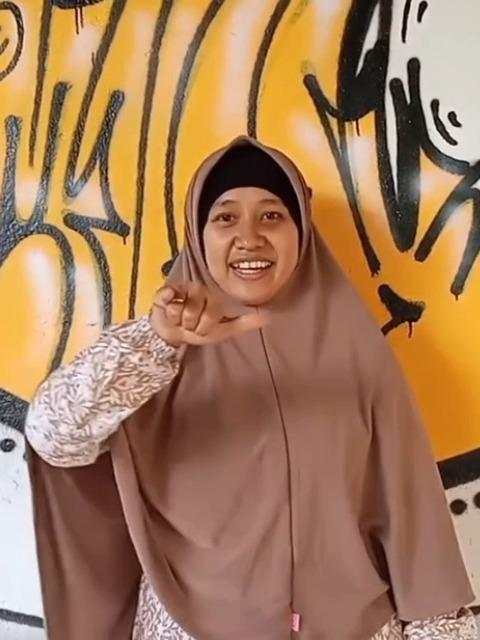Y: (142, 272, 278, 351)
